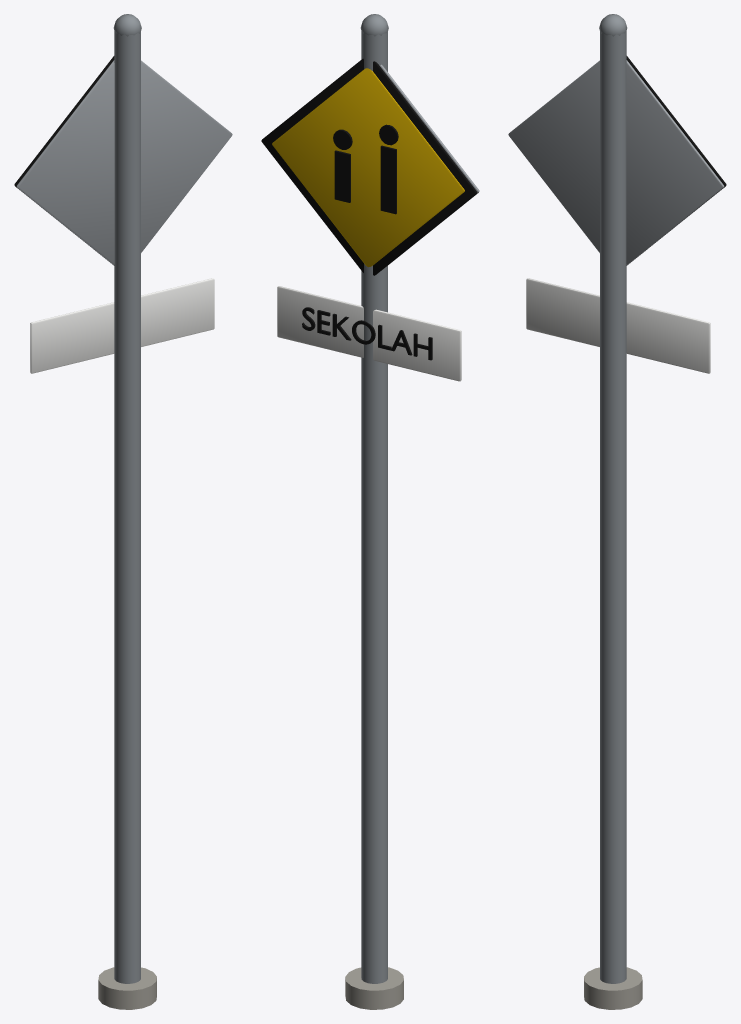
File: Sign_School.fbx
The picture shows the model from 3 angles, left to right: view 1: azimuth 30°, elevation 25°; view 2: azimuth 150°, elevation 25°; view 3: azimuth 330°, elevation 25°; orthographic projection.
Visible parts, largest first — view 1: Sign_School_Mesh; view 2: Sign_School_Mesh; view 3: Sign_School_Mesh.
Boxes of the visible parts, bbox=[...] form: Sign_School_Mesh: bbox=[14, 14, 232, 1009]; Sign_School_Mesh: bbox=[261, 14, 479, 1009]; Sign_School_Mesh: bbox=[508, 14, 726, 1009].
Size of the model in its own units: 0.703 by 3.06 by 0.1672.
